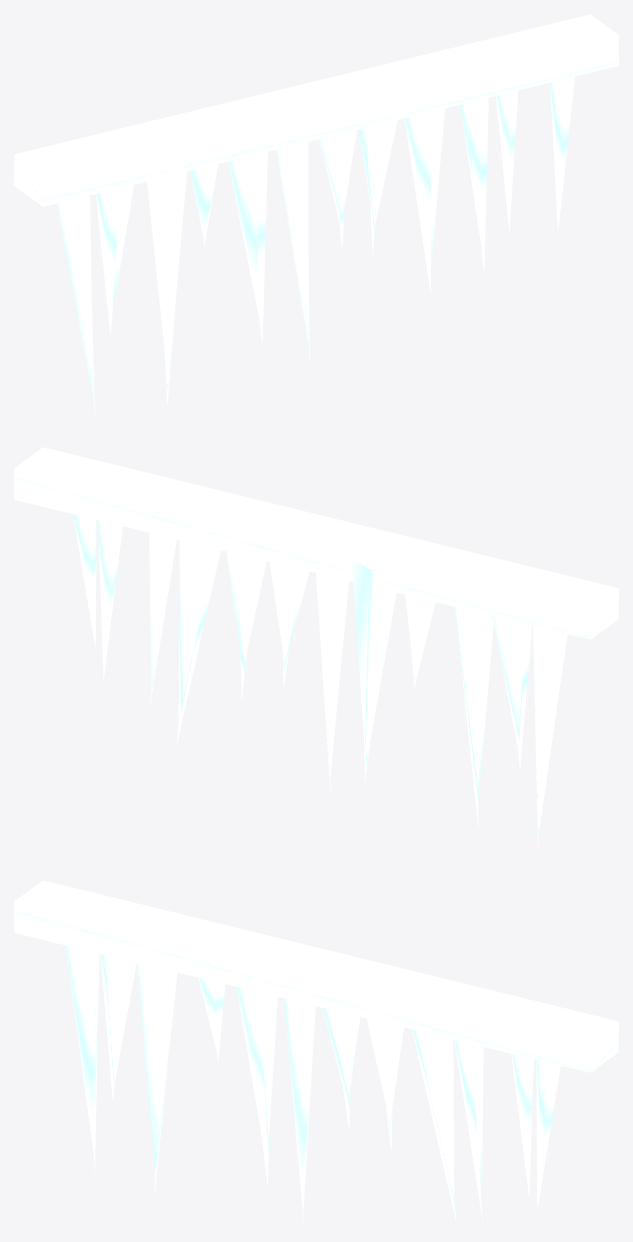
File: icicle_fringe_lod1.gltf
3 renders of one model, top to bottom at view 1: azimuth 30°, elevation 25°; view 2: azimuth 150°, elevation 25°; view 3: azimuth 330°, elevation 25°, orthographic.
Visible parts, largest first — view 1: icicle_fringe_LOD1; view 2: icicle_fringe_LOD1; view 3: icicle_fringe_LOD1.
Boxes of the visible parts, <box> form: icicle_fringe_LOD1: <box>14,14,618,414</box>; icicle_fringe_LOD1: <box>14,447,618,849</box>; icicle_fringe_LOD1: <box>14,880,618,1227</box>.
Size of the model in its own units: 1.75 by 0.7894 by 0.1928.
Materials: 1 (1 with a texture image).
